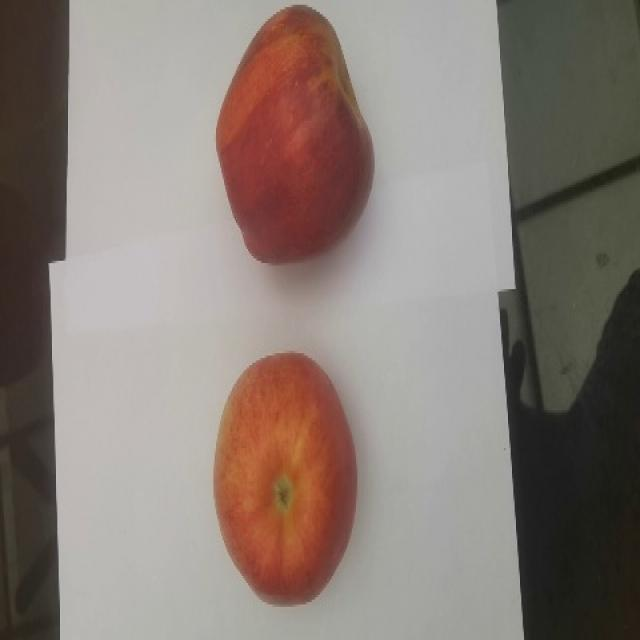Apple: (214, 4, 375, 264), (212, 350, 358, 606)
